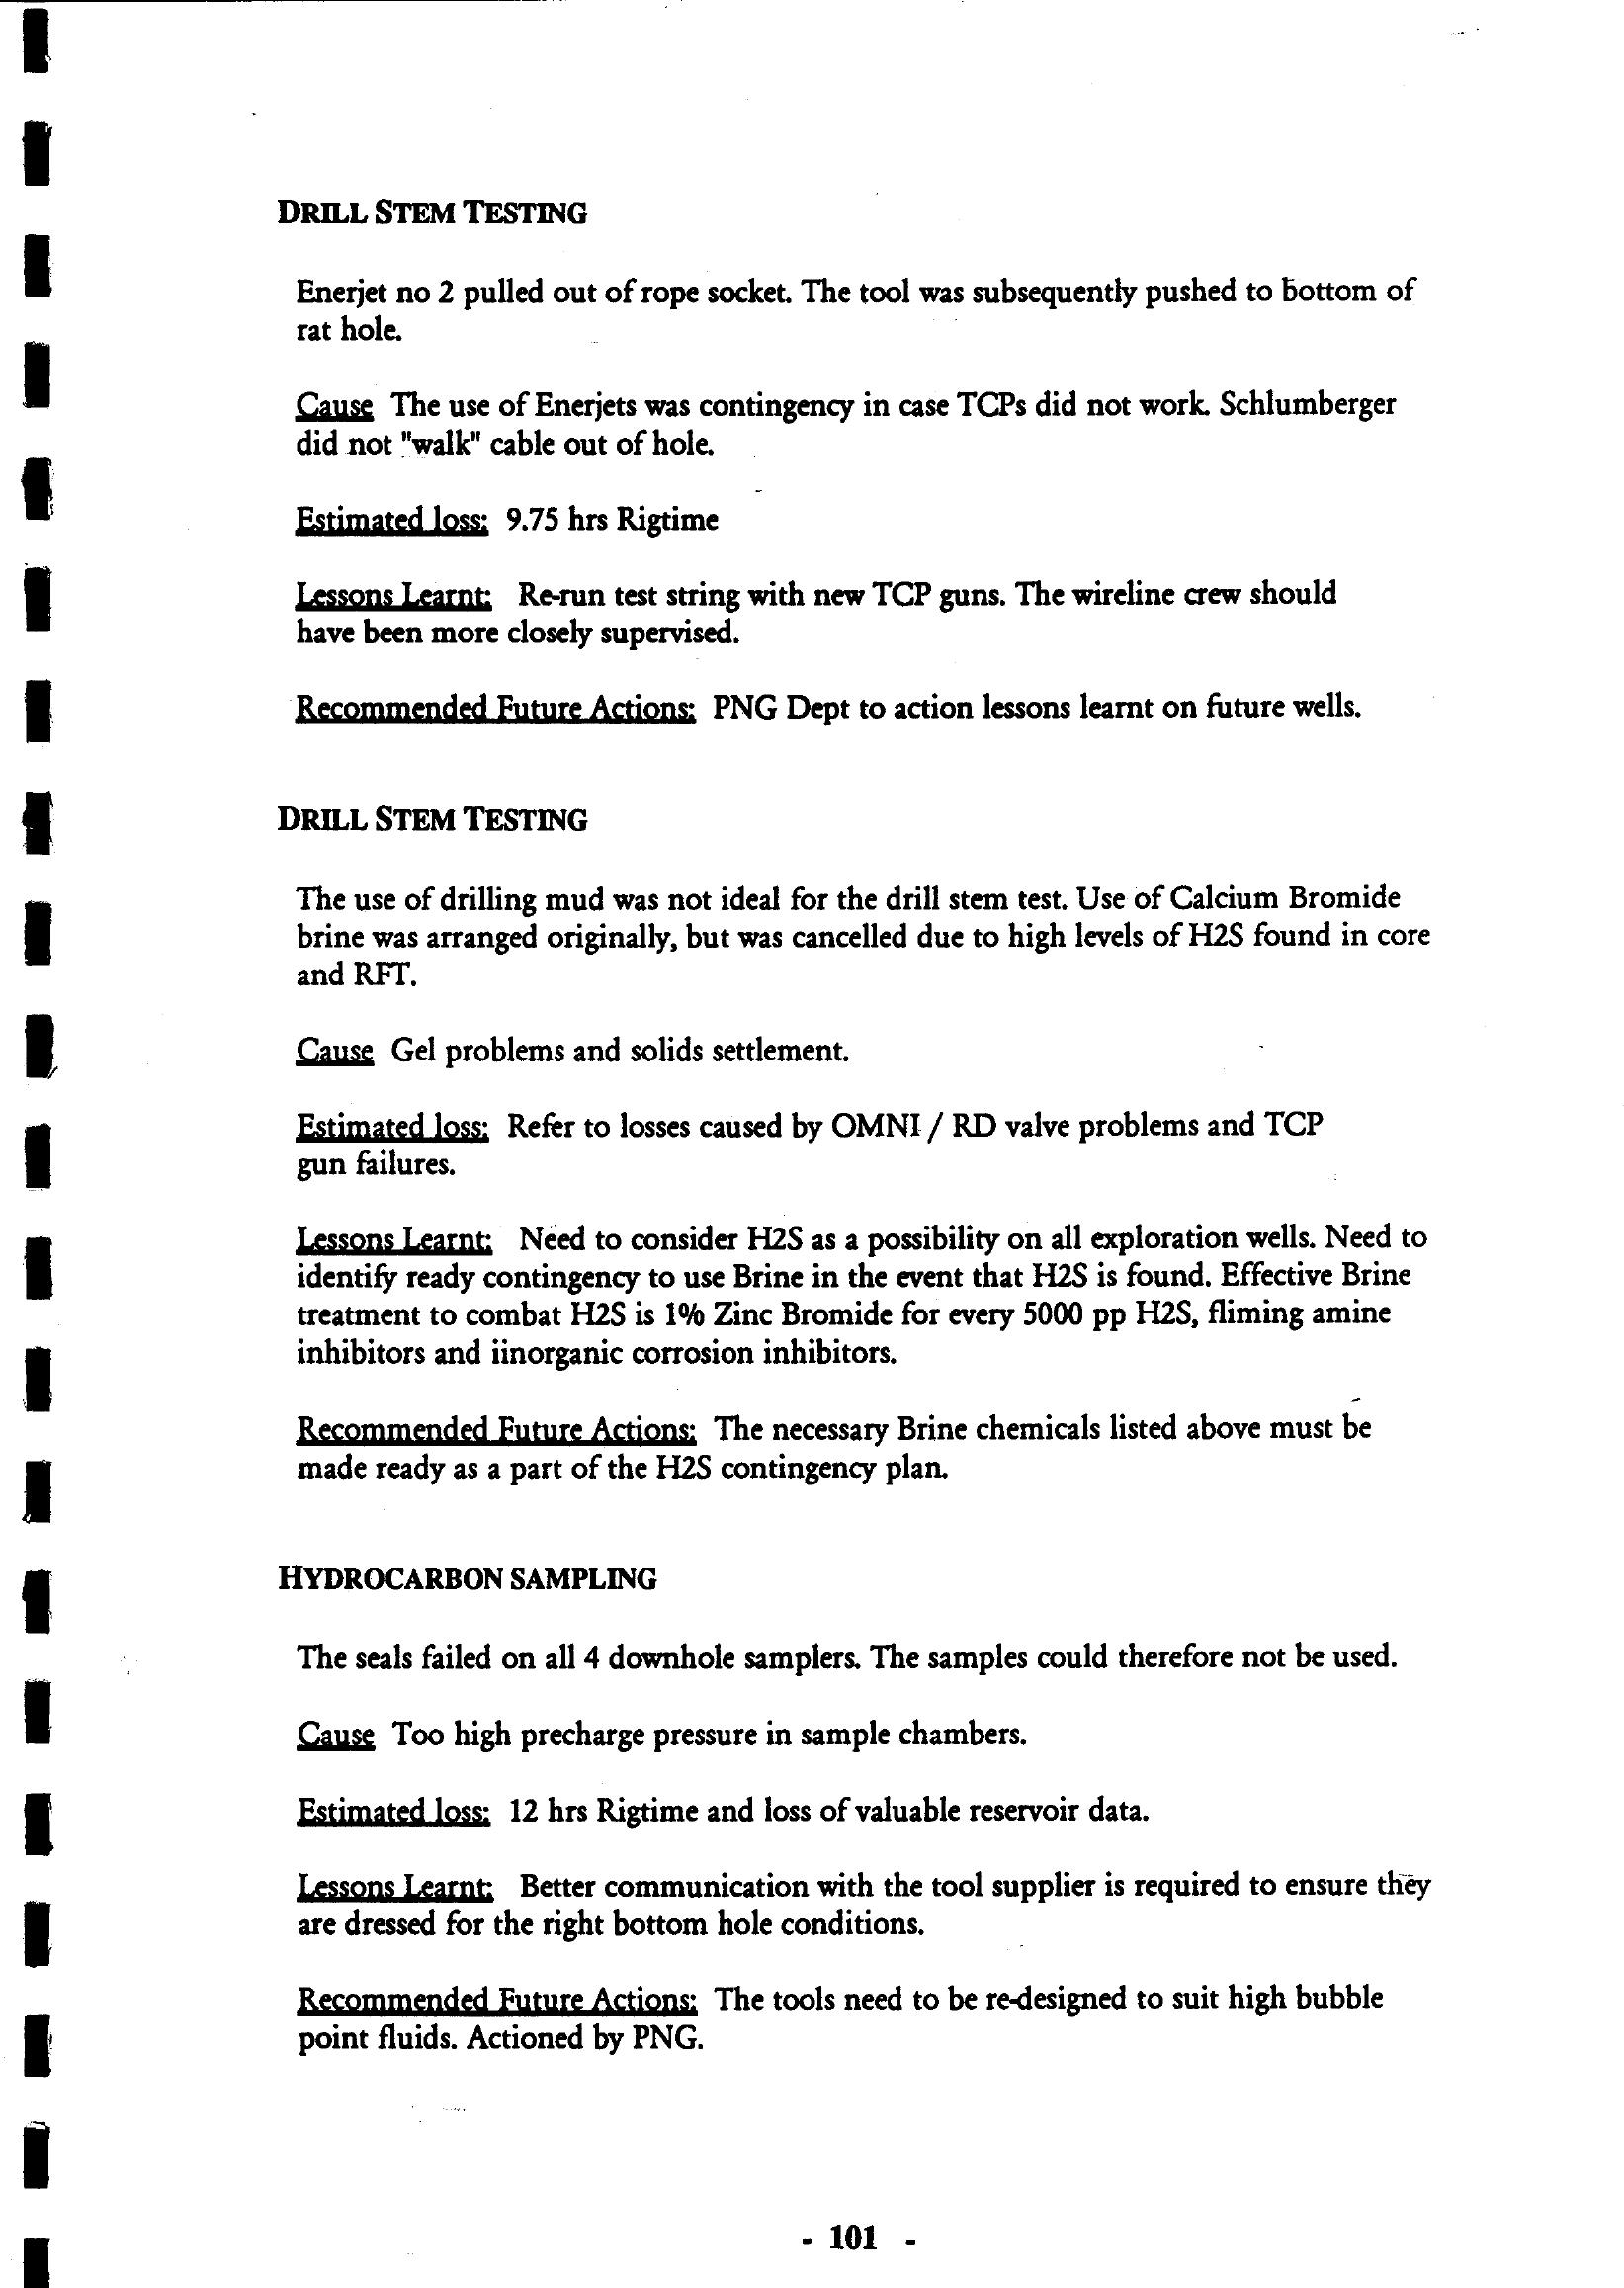text: (236, 149, 1476, 2105)
